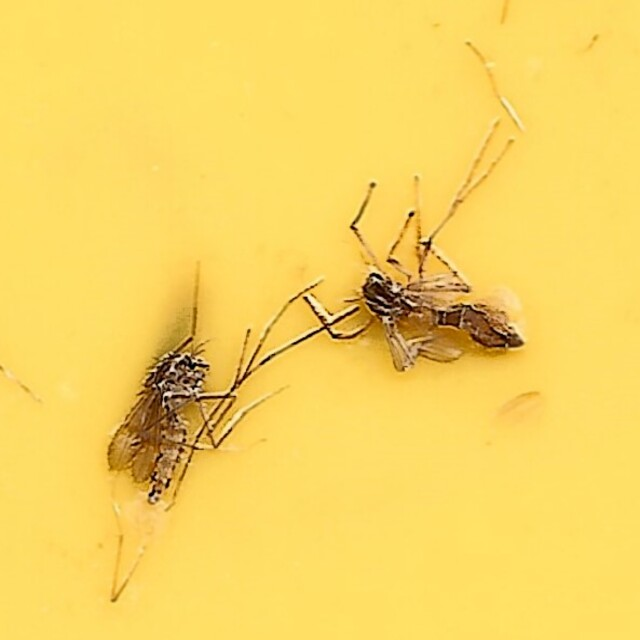Nematocera: (318, 120, 532, 371), (108, 315, 226, 520)
